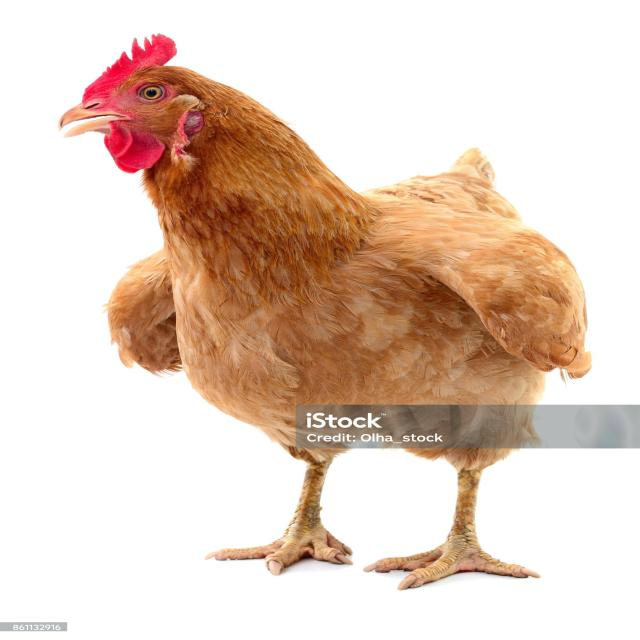Chicken: (52, 28, 606, 598)
